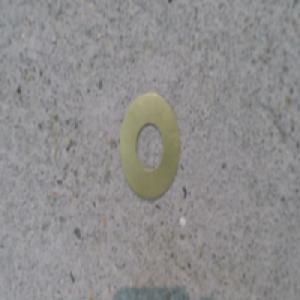Washer: (118, 89, 182, 201)
